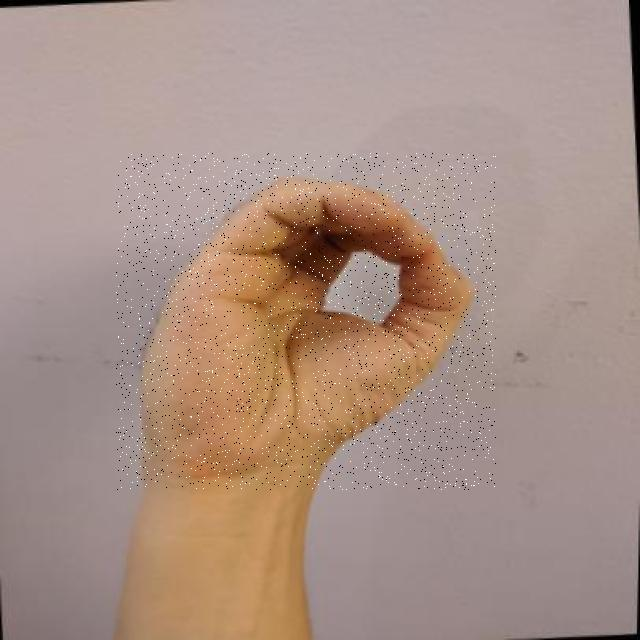O: (116, 153, 496, 490)
